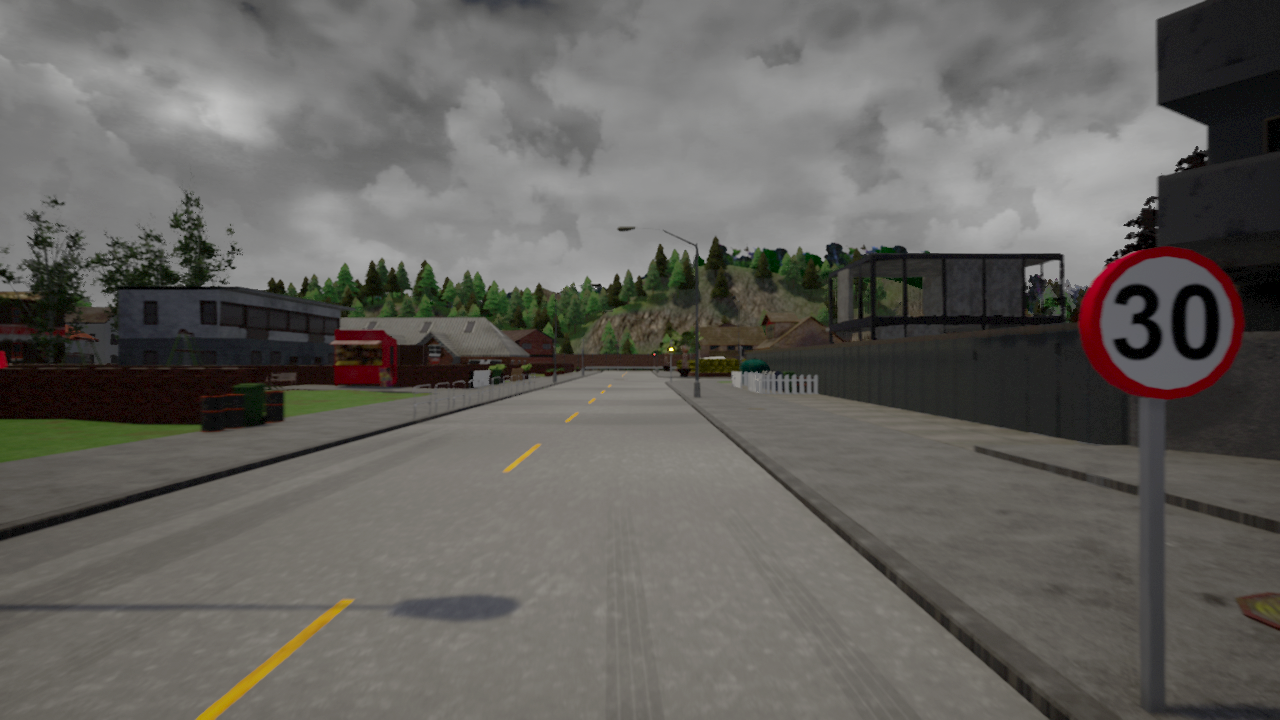yellow: (667, 342, 674, 358)
